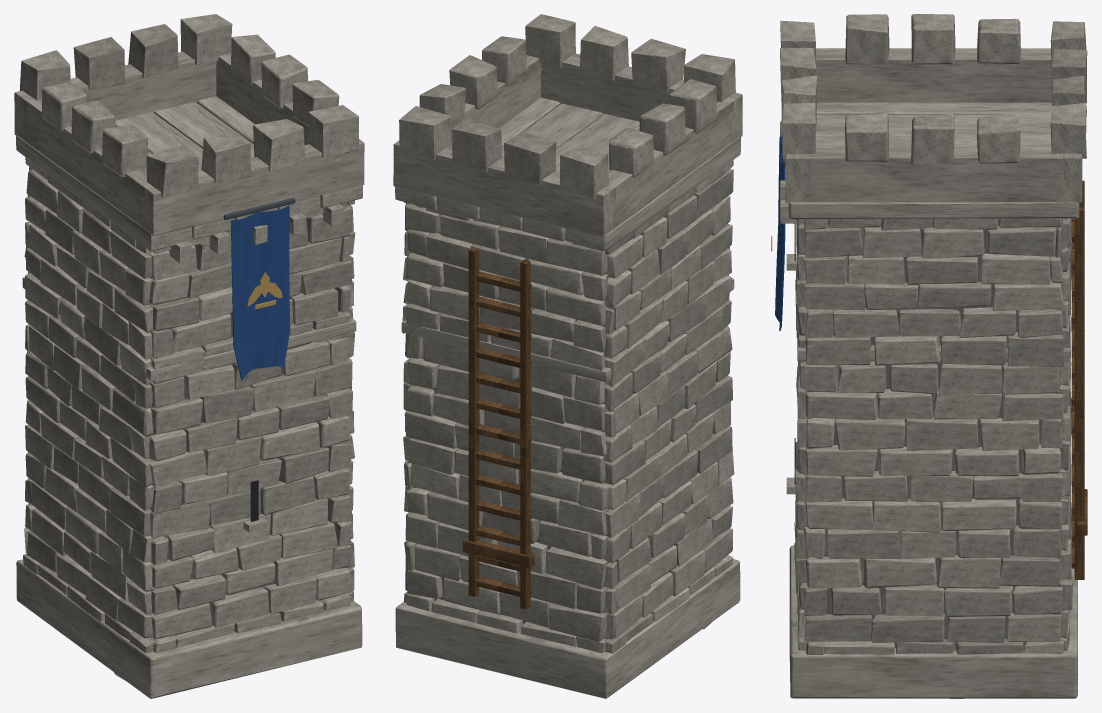
Rendered from watchtower-LOD2.glb.
3 renders of one model, left to right at view 1: azimuth 30°, elevation 25°; view 2: azimuth 150°, elevation 25°; view 3: azimuth 270°, elevation 25°, orthographic. The views are drawn at different scales.
Visible parts, largest first — view 1: V3 complete watchtower / Tower return crenel.011, V3 complete watchtower / Tower return ashlar.165, V3 complete watchtower / Tower waist stringcourse.001, V3 complete watchtower / Tower return ashlar.164, V3 complete watchtower / Tower return ashlar.157, V3 complete watchtower / Tower return ashlar.154, V3 complete watchtower / Tower return ashlar.159, V3 complete watchtower / Royal blue Valoria banner.001, V3 complete watchtower / Valoria lily embroidery.005; view 2: V3 complete watchtower / Tower return crenel.011, V3 complete watchtower / Tower return ashlar.157, V3 complete watchtower / Tower waist stringcourse.001, V3 complete watchtower / Tower return ashlar.165, V3 complete watchtower / Tower return ashlar.164, V3 complete watchtower / Tower return ashlar.154, V3 complete watchtower / Tower return ashlar.159, Tower rear oak access lintel; view 3: V3 complete watchtower / Tower return crenel.011, V3 complete watchtower / Tower waist stringcourse.001, V3 complete watchtower / Tower return ashlar.154, V3 complete watchtower / Tower return ashlar.157, V3 complete watchtower / Tower return ashlar.159, V3 complete watchtower / Tower return ashlar.164, V3 complete watchtower / Tower return ashlar.165, Tower rear oak access lintel, V3 complete watchtower / Tower structural core.001, V3 complete watchtower / Royal blue Valoria banner.001.
Part boxes in pixels (x1=…): V3 complete watchtower / Tower return crenel.011: x1=14, y1=34, x2=364, y2=652; V3 complete watchtower / Tower return ashlar.165: x1=25, y1=24, x2=354, y2=595; V3 complete watchtower / Tower waist stringcourse.001: x1=16, y1=96, x2=362, y2=698; V3 complete watchtower / Tower return ashlar.164: x1=24, y1=167, x2=354, y2=639; V3 complete watchtower / Tower return ashlar.157: x1=25, y1=14, x2=358, y2=680; V3 complete watchtower / Tower return ashlar.154: x1=25, y1=119, x2=353, y2=621; V3 complete watchtower / Tower return ashlar.159: x1=23, y1=157, x2=354, y2=653; V3 complete watchtower / Royal blue Valoria banner.001: x1=230, y1=205, x2=290, y2=380; V3 complete watchtower / Valoria lily embroidery.005: x1=247, y1=272, x2=282, y2=309; V3 complete watchtower / Tower return crenel.011: x1=393, y1=36, x2=742, y2=614; V3 complete watchtower / Tower return ashlar.157: x1=399, y1=14, x2=730, y2=653; V3 complete watchtower / Tower waist stringcourse.001: x1=395, y1=97, x2=740, y2=698; V3 complete watchtower / Tower return ashlar.165: x1=404, y1=118, x2=733, y2=641; V3 complete watchtower / Tower return ashlar.164: x1=402, y1=204, x2=732, y2=639; V3 complete watchtower / Tower return ashlar.154: x1=403, y1=26, x2=734, y2=621; V3 complete watchtower / Tower return ashlar.159: x1=403, y1=203, x2=733, y2=653; Tower rear oak access lintel: x1=463, y1=247, x2=534, y2=609; V3 complete watchtower / Tower return crenel.011: x1=780, y1=14, x2=1086, y2=654; V3 complete watchtower / Tower waist stringcourse.001: x1=780, y1=102, x2=1079, y2=698; V3 complete watchtower / Tower return ashlar.154: x1=781, y1=75, x2=1071, y2=636; V3 complete watchtower / Tower return ashlar.157: x1=782, y1=102, x2=1086, y2=654; V3 complete watchtower / Tower return ashlar.159: x1=794, y1=218, x2=1071, y2=638; V3 complete watchtower / Tower return ashlar.164: x1=794, y1=218, x2=1072, y2=698; V3 complete watchtower / Tower return ashlar.165: x1=795, y1=48, x2=1087, y2=654; Tower rear oak access lintel: x1=1071, y1=180, x2=1087, y2=579; V3 complete watchtower / Tower structural core.001: x1=824, y1=219, x2=1051, y2=647; V3 complete watchtower / Royal blue Valoria banner.001: x1=775, y1=134, x2=785, y2=331.
Size of the model in its own units: 3.24 by 7.63 by 3.8.
13 materials, 8 textured.
